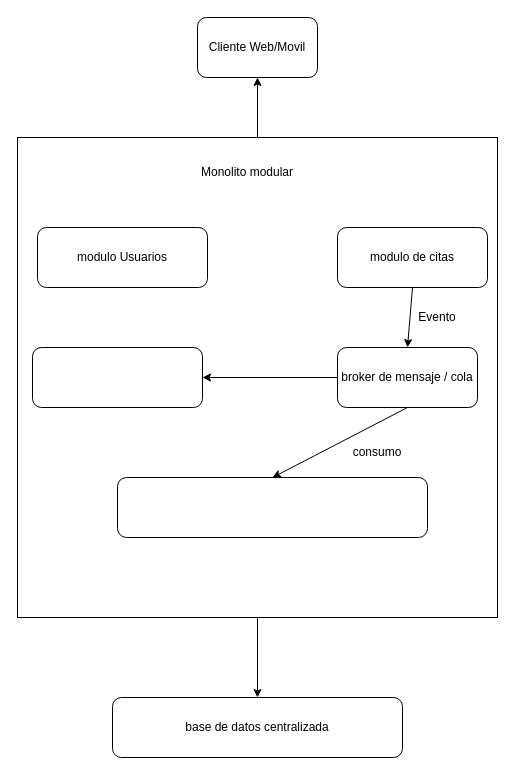
This 515x775 diagram has some shape labels left out. The centre of each missing label's shape, as x and y in pixels:
"Modulo de notificaciones" belongs at (x=272, y=507).
"modulo reportes" belongs at (x=117, y=377).
